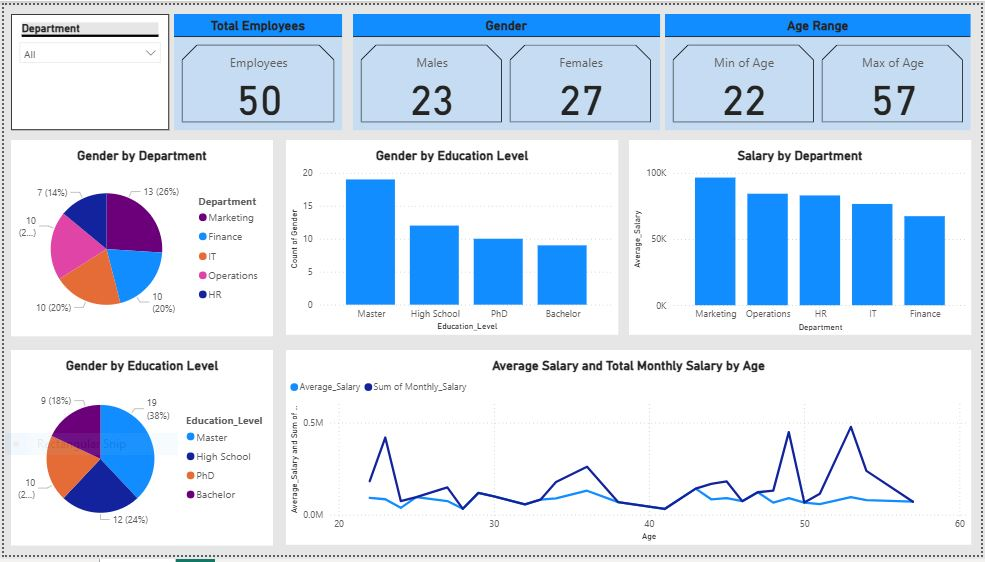

The page's visual inventory and layout, read from the dashboard file:
{"tool":"powerbi","page":{"name":"Page 1","canvas":[1280,720],"ordinal":0},"visuals":[{"type":"card","fields":{"Values":["Employee_Salary.Males"]},"box":[421.9,274.6,205.9,151.6],"z":1000},{"type":"card","fields":{"Values":["Sum(employee_salary_dataset.Monthly_Salary)"]},"box":[761.9,451.6,205.5,151.9],"z":2000},{"type":"slicer","fields":{"Values":["Employee_Salary.Department"]},"box":[9.2,11.8,206.8,151.9],"z":3000},{"type":"columnChart","title":"Salary by Department","fields":{"Y":["Employee_Salary.Average_Salary"],"Category":["Employee_Salary.Department"]},"box":[818.2,176.7,447.7,255.3],"z":4000},{"type":"pieChart","title":"Gender by Department","fields":{"Category":["Employee_Salary.Department"],"Y":["CountNonNull(Employee_Salary.Gender)"]},"box":[9.2,176.7,343,256.6],"z":6000},{"type":"pieChart","title":"Gender by Education Level","fields":{"Y":["CountNonNull(Employee_Salary.Gender)"],"Category":["Employee_Salary.Education_Level"]},"box":[8.6,451.9,343.2,256],"z":7000},{"type":"columnChart","title":"Gender by Education Level","fields":{"Y":["CountNonNull(Employee_Salary.Gender)"],"Category":["Employee_Salary.Education_Level"]},"box":[369,177.3,434.8,254.6],"z":8000},{"type":"lineChart","title":"Average Salary and Total Monthly Salary by Age","fields":{"Y":["Employee_Salary.Average_Salary","Sum(Employee_Salary.Monthly_Salary)"],"Category":["Employee_Salary.Age"]},"box":[369,451.9,896.7,254.6],"z":9000},{"type":"cardVisual","title":"Age Range","fields":{"Data":["Min(Employee_Salary.Age)","Max(Employee_Salary.Age)1"]},"box":[865.3,11.4,400.4,151.6],"z":10000},{"type":"cardVisual","title":"Gender","fields":{"Data":["Employee_Salary.Males","Employee_Salary.Females"]},"box":[456.2,11.4,401.9,151.6],"z":10001},{"type":"cardVisual","title":"Total Employees","fields":{"Data":["CountNonNull(Employee_Salary.EmployeeID)"]},"box":[223.1,11.4,220.2,151.6],"z":10002}]}

Visuals, with their boxes in screenshot pixels (x1, y1, x2, y2), scaled from the page's 1280x720 canvas onto the 985x562 screenshot:
card - Employee_Salary.Males: bbox=[325, 214, 483, 333]
card - Sum(employee_salary_dataset.Monthly_Salary): bbox=[586, 352, 744, 471]
slicer - Employee_Salary.Department: bbox=[7, 9, 166, 128]
"Salary by Department" columnChart: bbox=[630, 138, 974, 337]
"Gender by Department" pieChart: bbox=[7, 138, 271, 338]
"Gender by Education Level" pieChart: bbox=[7, 353, 271, 553]
"Gender by Education Level" columnChart: bbox=[284, 138, 619, 337]
"Average Salary and Total Monthly Salary by Age" lineChart: bbox=[284, 353, 974, 551]
"Age Range" cardVisual: bbox=[666, 9, 974, 127]
"Gender" cardVisual: bbox=[351, 9, 660, 127]
"Total Employees" cardVisual: bbox=[172, 9, 341, 127]
